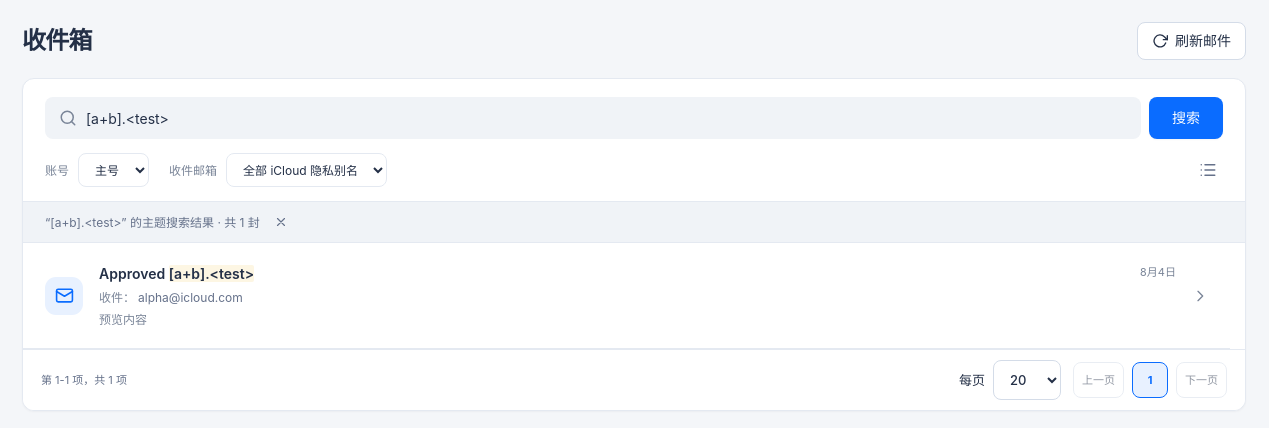
Test: InboxPage › 主题关键词高亮按字面匹配，保留标题和详情点击
Expected: the text "[a+b].<test>" is shown, x1=169 y1=265 x2=254 y2=282
Expected: the text "alpha@icloud.com" is shown, x1=138 y1=289 x2=243 y2=307
Step 1. Click the button "Approved [a+b].<test>" → (64, 296), box x1=23 y1=243 x2=1230 y2=349
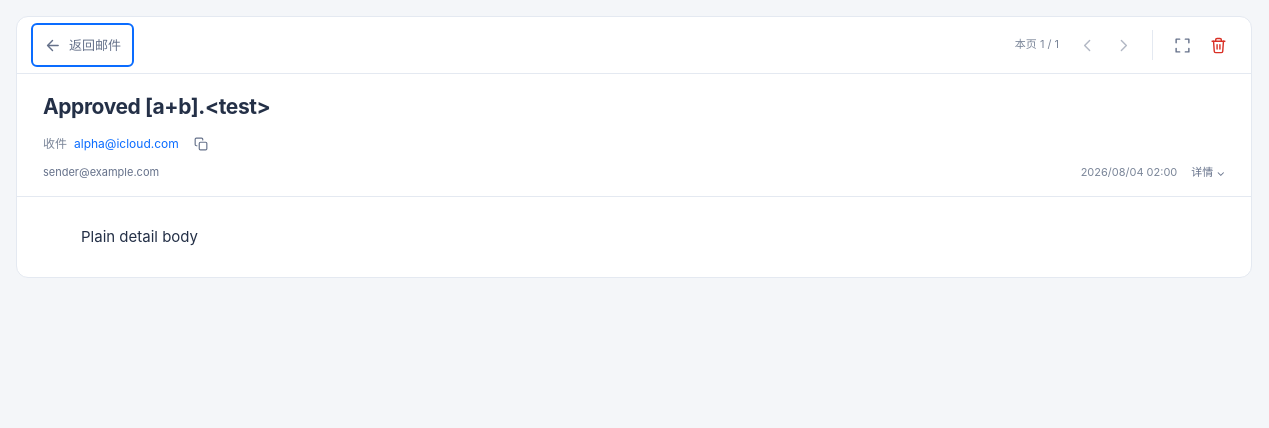
Now the text "Plain detail body" is shown, box x1=81 y1=227 x2=198 y2=246
Now the text "sender@example.com" is shown, box x1=43 y1=164 x2=159 y2=181
